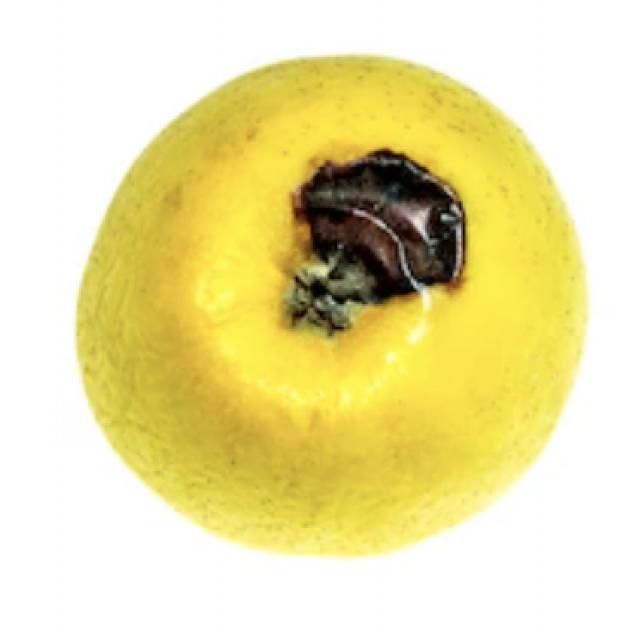Rotten: (115, 80, 585, 537)
